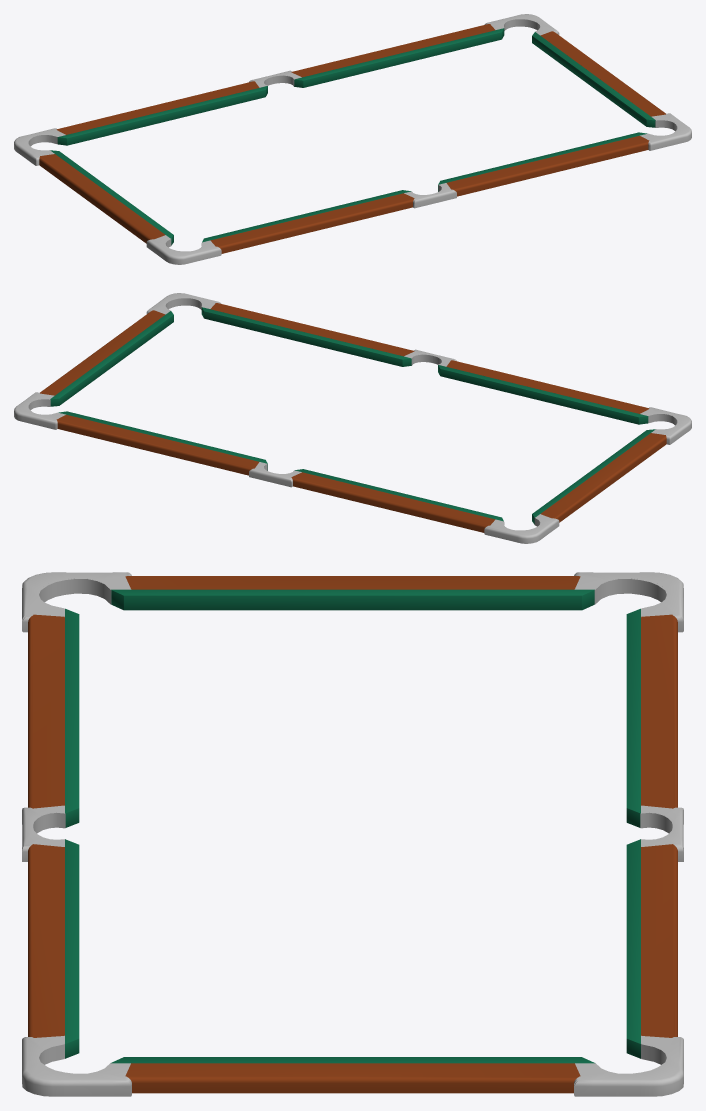
Rendered from Table_Border.fbx.
3 renders of one model, top to bottom at view 1: azimuth 30°, elevation 25°; view 2: azimuth 150°, elevation 25°; view 3: azimuth 270°, elevation 25°, orthographic. The views are drawn at different scales.
Parts seen in each view (by area): view 1: Border; view 2: Border; view 3: Border.
Part boxes in pixels (x1=…): Border: x1=14, y1=14, x2=691, y2=264; Border: x1=14, y1=293, x2=691, y2=543; Border: x1=22, y1=572, x2=683, y2=1096.
Size of the model in its own units: 1000 by 13.51 by 548.
